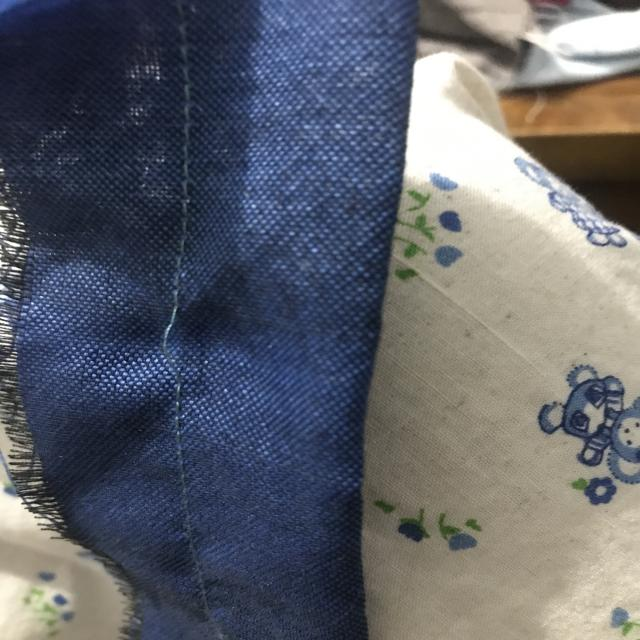good: (140, 281, 210, 398)
